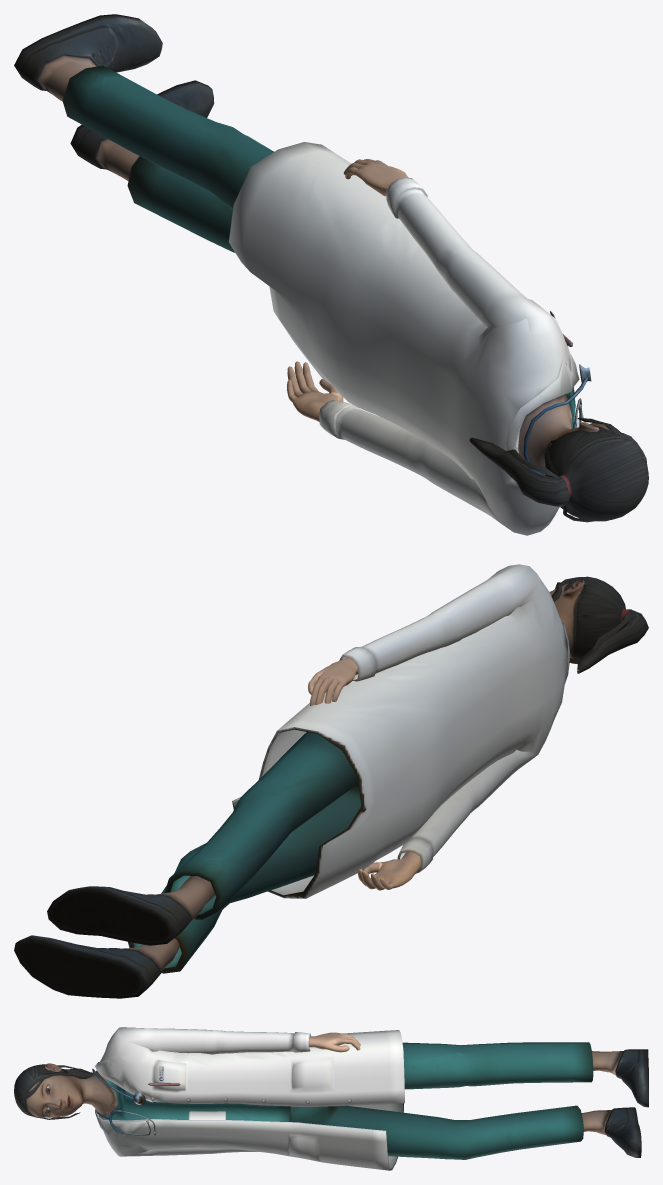
Rendered from walk.obj.
3 renders of one model, top to bottom at view 1: azimuth 30°, elevation 25°; view 2: azimuth 150°, elevation 25°; view 3: azimuth 270°, elevation 25°, orthographic. The views are drawn at different scales.
Bounding box in the file's own units: 0.3686 × 0.4055 × 1.72.
1 material, 1 textured.
